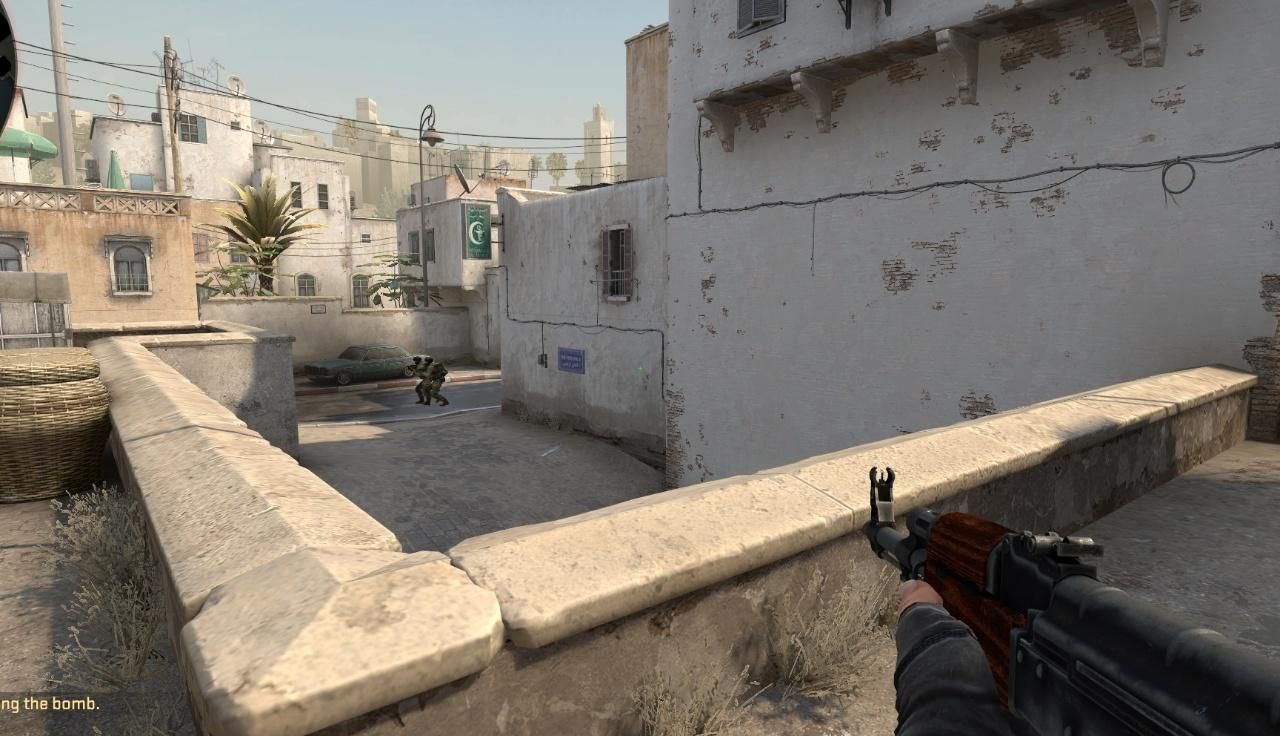ct: (425, 356, 448, 406), (413, 356, 424, 405)
cthead: (412, 356, 422, 364), (425, 356, 432, 365)
rifle: (866, 466, 1280, 736)
